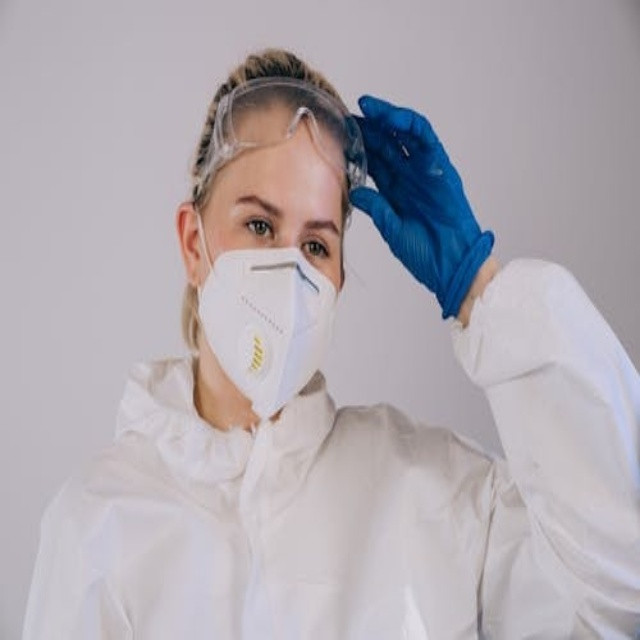Guantes: (345, 94, 496, 322)
Mascara: (195, 215, 336, 423)
Sin_gafas: (216, 190, 346, 273)
